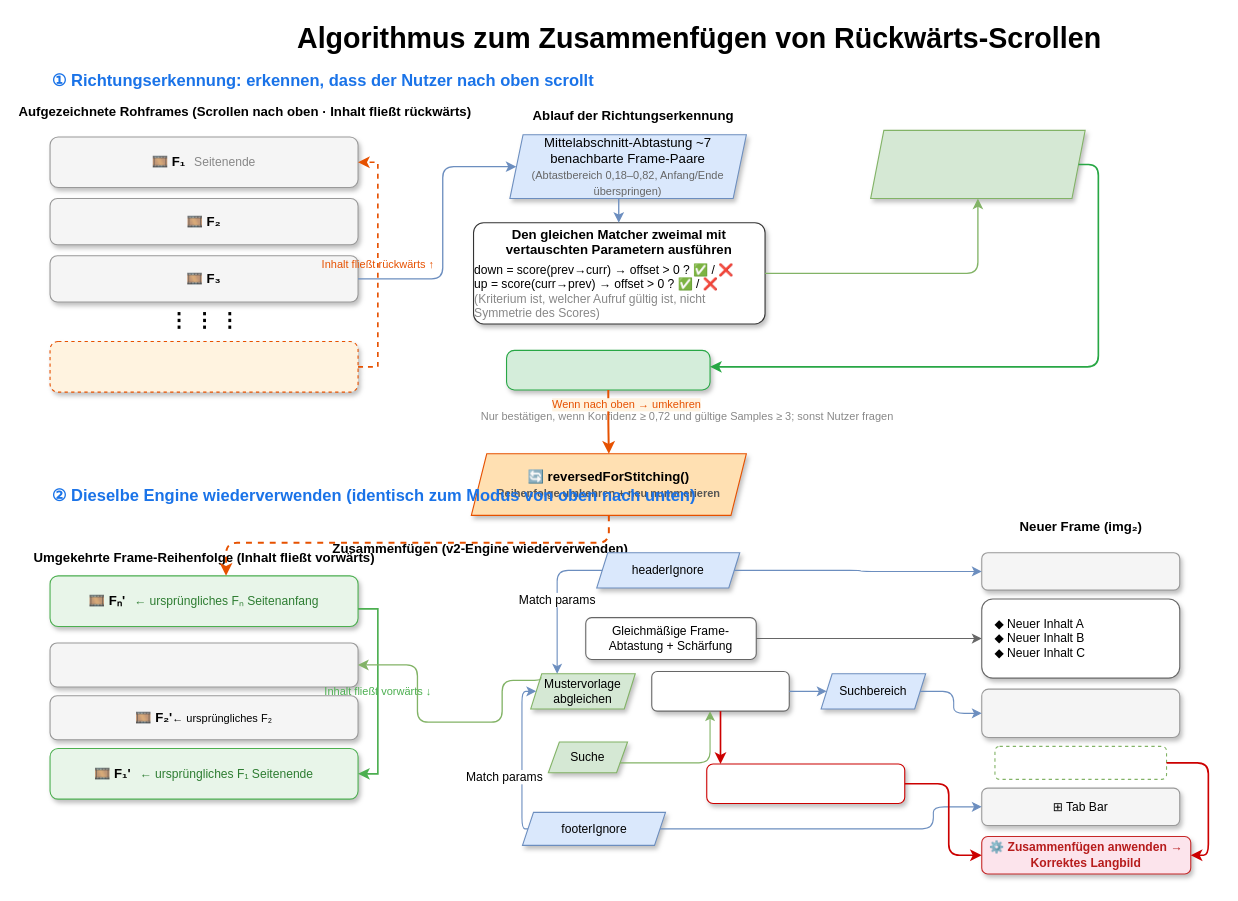
Image size: 1238x901. Some labels were removed from this diagram. The centre of each missing label's shape, as x and y in pixels:
Abstimmungsentscheidung upVotes ≥ downVotes + 2 und upScore ≥ downScore × 1,25: the point at 978,165
Alter Inhalt ...: the point at 1081,714
Hier gefunden! ✅: the point at 1080,762
✅ Urteil: Scrollen nach oben: the point at 609,371
🎞️ F₃' ← ursprüngliches F₃: the point at 205,666
🎞️ Fₙ Seitenanfang: the point at 205,368
🎬 Statusleiste / Navigation: the point at 1081,572
🔍 Registrierter Versatz (offset): the point at 806,784
🔍 Suche & Registrieren: the point at 721,692
